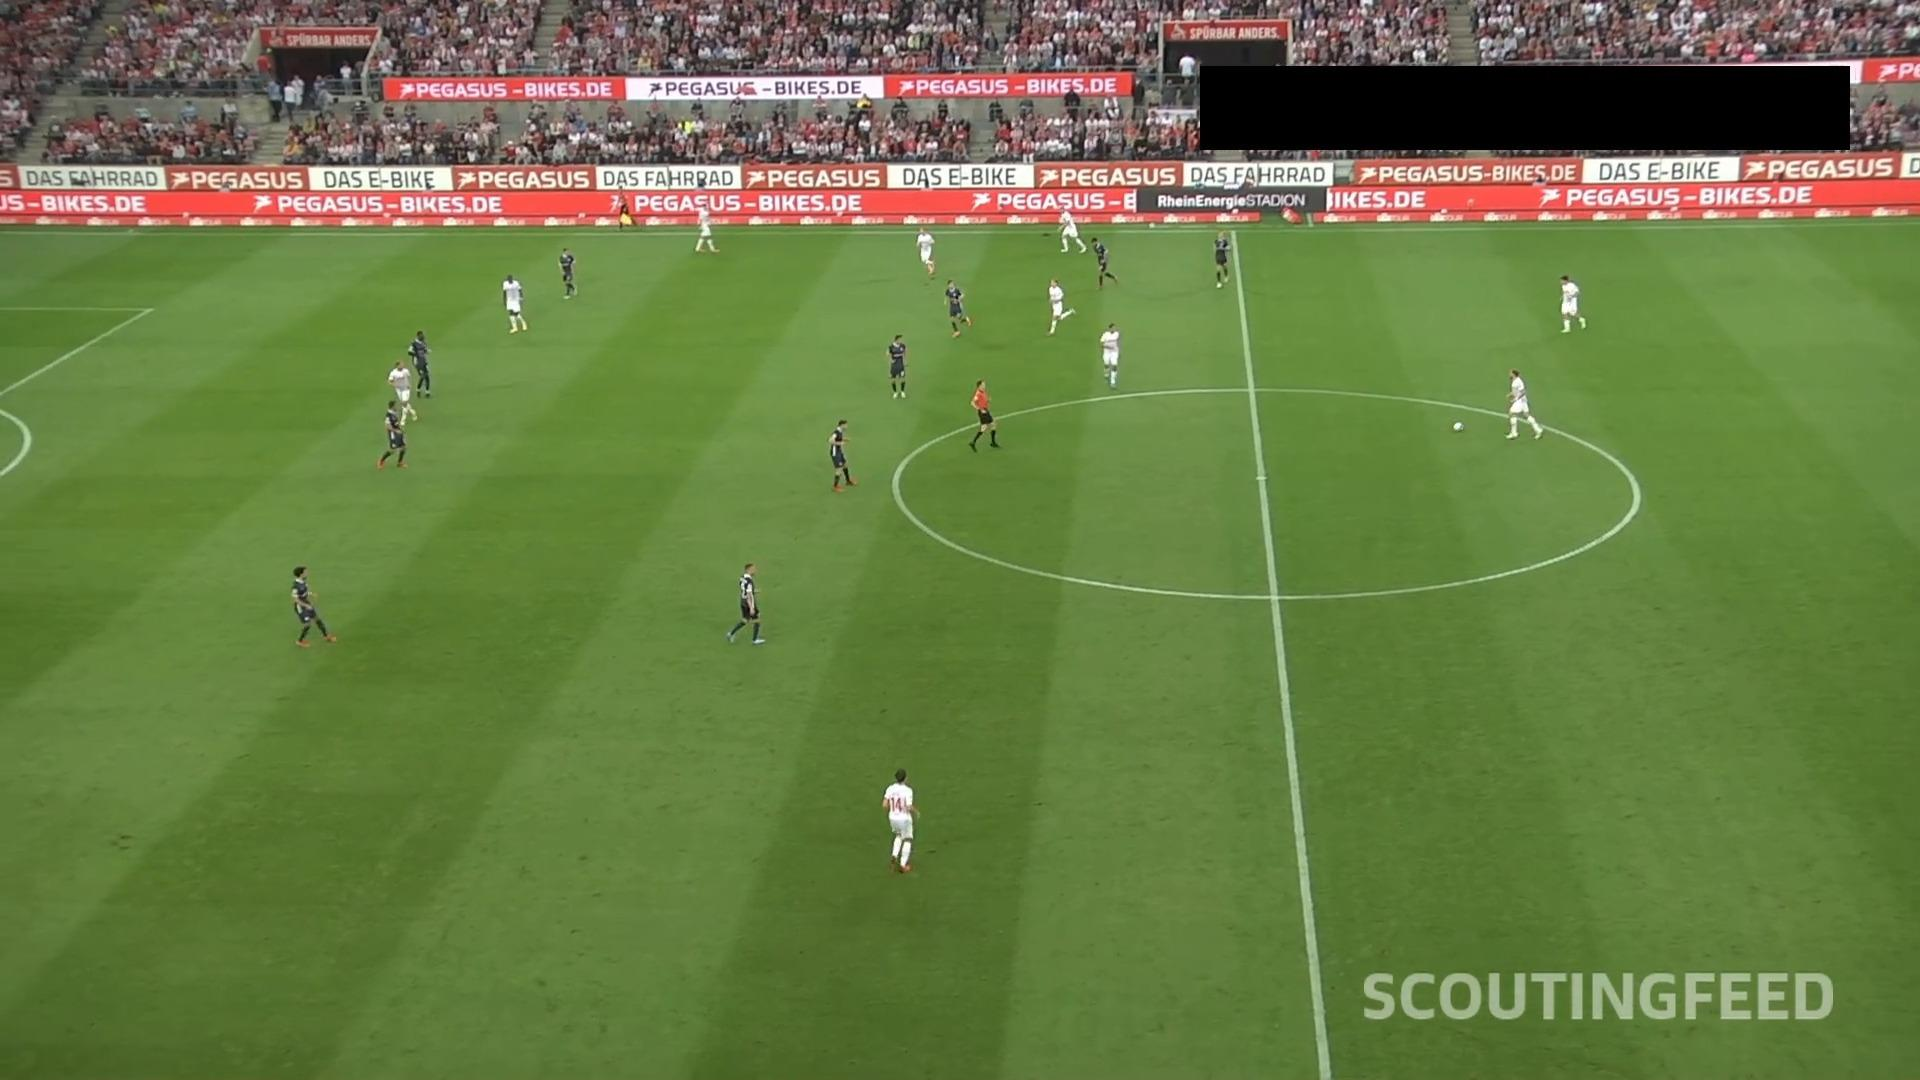ball: (1452, 421, 1465, 433)
